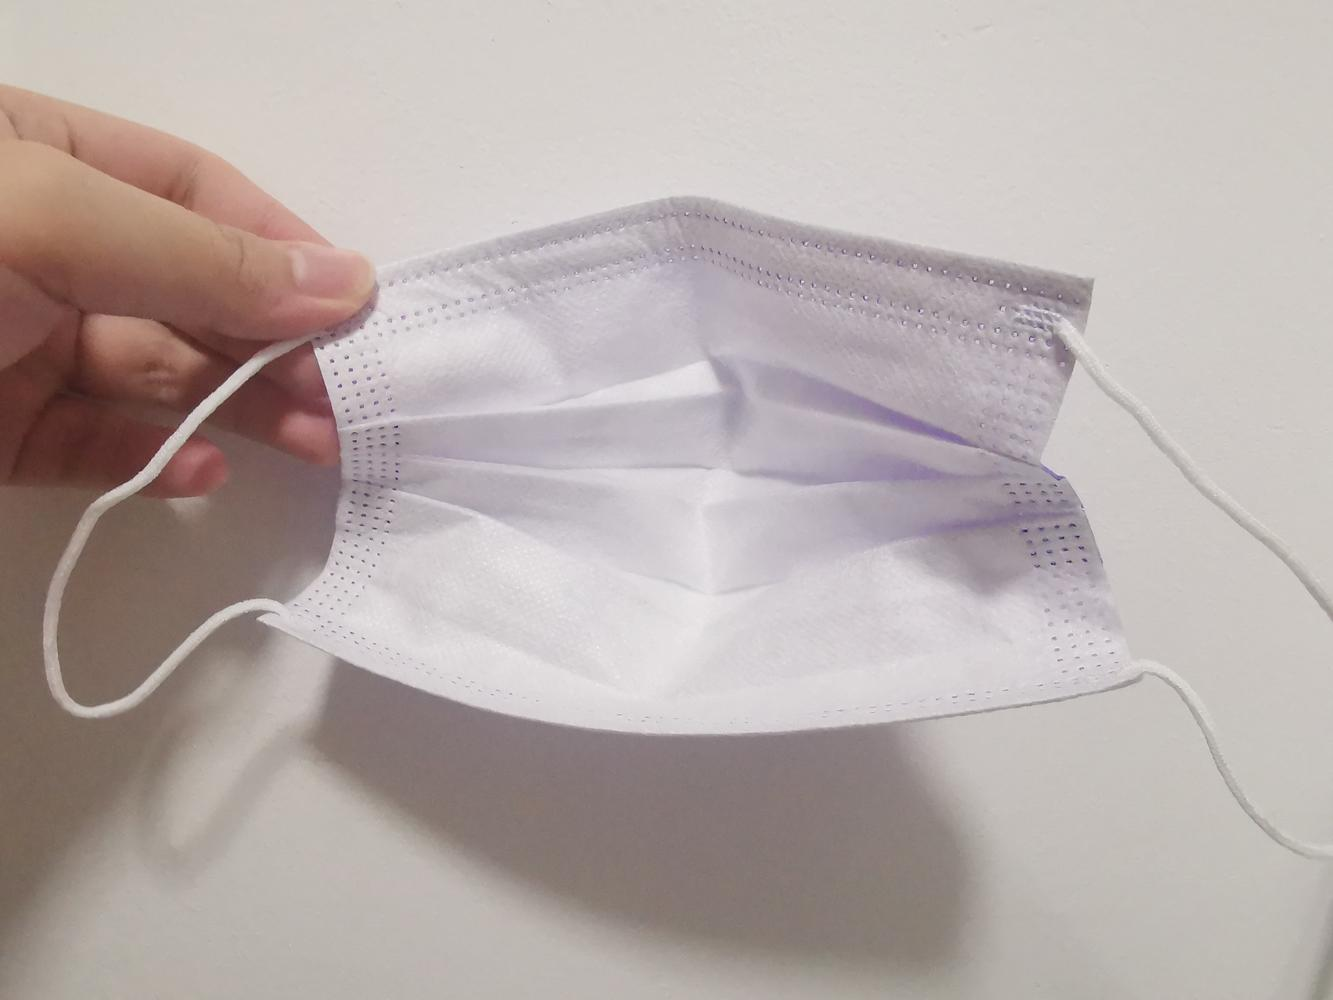Face Mask: (312, 209, 1128, 735)
Undefined Object: (2, 71, 362, 547)
